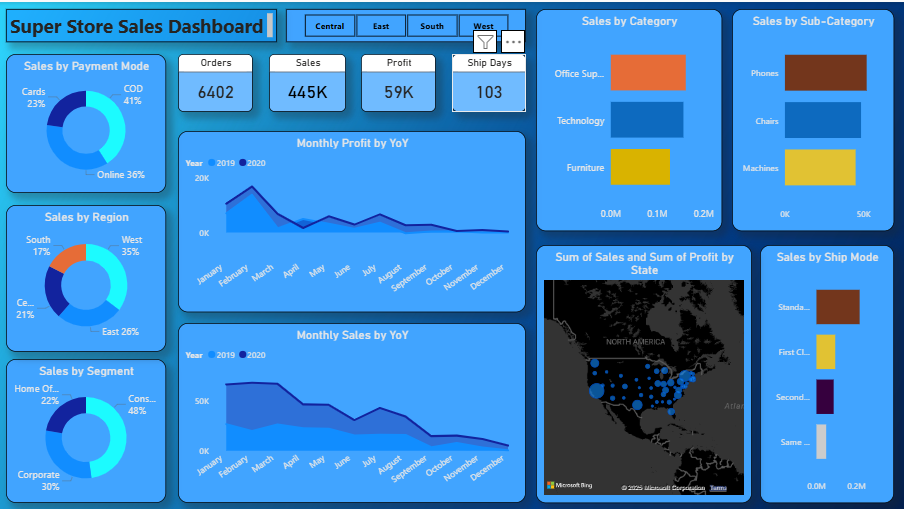

The page's visual inventory and layout, read from the dashboard file:
{"tool":"powerbi","page":{"name":"Page 1","canvas":[1280,720],"ordinal":0},"visuals":[{"type":"clusteredBarChart","title":"Sales by Category","fields":{"Category":["SuperStore_Sales_Dataset.Category"],"Y":["Sum(SuperStore_Sales_Dataset.Sales)"]},"box":[759.7,9.9,263.6,314.6],"z":0},{"type":"clusteredBarChart","title":"Sales by Sub-Category","fields":{"Category":["SuperStore_Sales_Dataset.Sub-Category"],"Y":["Sum(SuperStore_Sales_Dataset.Sales)"]},"box":[1037.5,9.9,229.6,314.6],"z":1000},{"type":"clusteredBarChart","title":"Sales by Ship Mode","fields":{"Category":["SuperStore_Sales_Dataset.Ship Mode"],"Y":["Sum(SuperStore_Sales_Dataset.Sales)"]},"box":[1077.2,344.4,189.9,365.7],"z":2000},{"type":"stackedAreaChart","title":"Monthly Sales by YoY","fields":{"Y":["Sum(SuperStore_Sales_Dataset.Sales)"],"Category":["SuperStore_Sales_Dataset.Order Date.Variation.Date Hierarchy.Month","SuperStore_Sales_Dataset.Order Date.Variation.Date Hierarchy.Day"],"Series":["SuperStore_Sales_Dataset.Order Date.Variation.Date Hierarchy.Year"]},"box":[252.3,455,493.2,255.1],"z":3000},{"type":"stackedAreaChart","title":"Monthly Profit by YoY","fields":{"Category":["SuperStore_Sales_Dataset.Order Date.Variation.Date Hierarchy.Month","SuperStore_Sales_Dataset.Order Date.Variation.Date Hierarchy.Day"],"Series":["SuperStore_Sales_Dataset.Order Date.Variation.Date Hierarchy.Year"],"Y":["Sum(SuperStore_Sales_Dataset.Profit)"]},"box":[252.3,182.8,493.2,256.5],"z":4000},{"type":"map","fields":{"Category":["SuperStore_Sales_Dataset.State"],"Size":["Sum(SuperStore_Sales_Dataset.Sales)"]},"box":[759.7,344.4,306.1,365.7],"z":5000},{"type":"donutChart","title":"Sales by Payment Mode","fields":{"Category":["SuperStore_Sales_Dataset.Payment Mode"],"Y":["Sum(SuperStore_Sales_Dataset.Sales)"]},"box":[8.5,73.7,226.8,197],"z":6000},{"type":"donutChart","title":"Sales by Segment","fields":{"Category":["SuperStore_Sales_Dataset.Segment"],"Y":["Sum(SuperStore_Sales_Dataset.Sales)"]},"box":[8.5,506,226.8,204.1],"z":7000},{"type":"slicer","fields":{"Values":["SuperStore_Sales_Dataset.Region"]},"box":[405.4,9.9,340.2,46.8],"z":8000},{"type":"textbox","box":[8.5,9.9,384.1,46.8],"z":9000},{"type":"card","title":"Sales","fields":{"Values":["Sum(SuperStore_Sales_Dataset.Sales)"]},"box":[381.3,73.7,109.1,82.2],"z":10000},{"type":"card","title":"Orders","fields":{"Values":["Sum(SuperStore_Sales_Dataset.Quantity)"]},"box":[252.3,73.7,106.3,82.2],"z":11000},{"type":"card","title":"Profit","fields":{"Values":["Sum(SuperStore_Sales_Dataset.Profit)"]},"box":[511.7,73.7,106.3,82.2],"z":12000},{"type":"card","title":"Ship Days","fields":{"Values":["Avg(SuperStore_Sales_Dataset.AvgDelivery)"]},"box":[640.6,73.7,104.9,82.2],"z":13000},{"type":"donutChart","title":"Sales by Region","fields":{"Category":["SuperStore_Sales_Dataset.Region"],"Y":["Sum(SuperStore_Sales_Dataset.Sales)"]},"box":[8.5,287.7,226.8,208.3],"z":14000}]}

Visuals, with their boxes in screenshot pixels (x1, y1, x2, y2), scaled from the page's 1280x720 canvas onto the 904x509 screenshot:
"Sales by Category" clusteredBarChart: (537,7,723,229)
"Sales by Sub-Category" clusteredBarChart: (733,7,895,229)
"Sales by Ship Mode" clusteredBarChart: (761,243,895,502)
"Monthly Sales by YoY" stackedAreaChart: (178,322,527,502)
"Monthly Profit by YoY" stackedAreaChart: (178,129,527,311)
map - SuperStore_Sales_Dataset.State x Sum(SuperStore_Sales_Dataset.Sales): (537,243,753,502)
"Sales by Payment Mode" donutChart: (6,52,166,191)
"Sales by Segment" donutChart: (6,358,166,502)
slicer - SuperStore_Sales_Dataset.Region: (286,7,527,40)
textbox: (6,7,277,40)
"Sales" card: (269,52,346,110)
"Orders" card: (178,52,253,110)
"Profit" card: (361,52,436,110)
"Ship Days" card: (452,52,527,110)
"Sales by Region" donutChart: (6,203,166,351)
